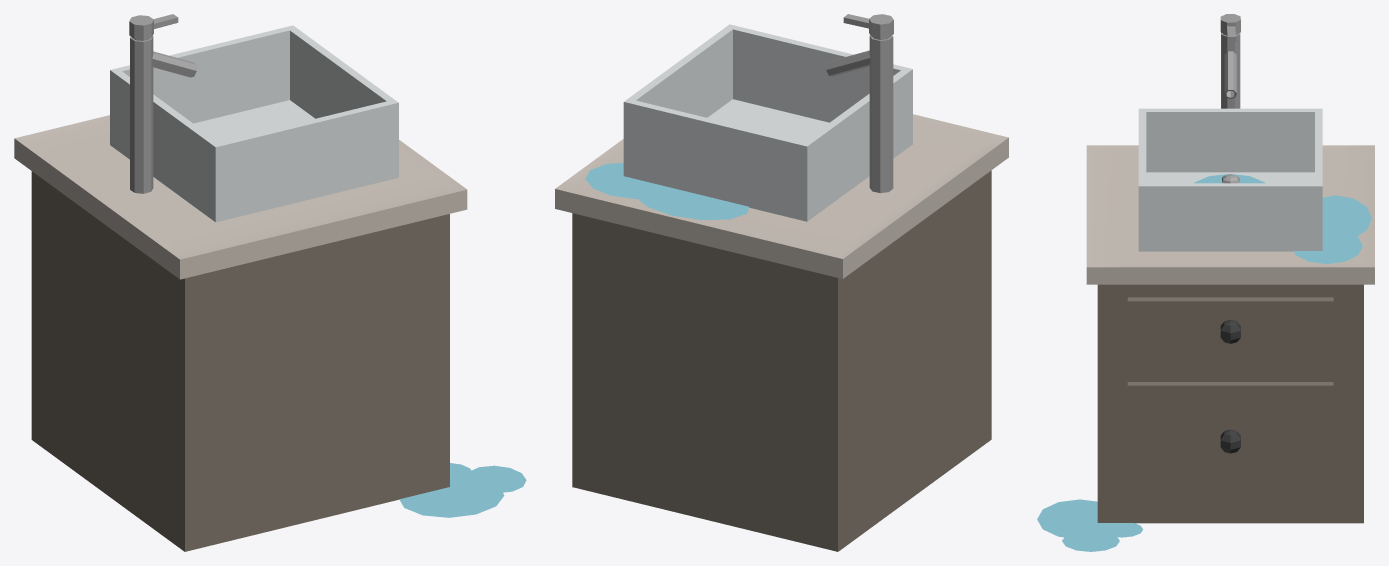
The model's file is Sink_d.fbx.
3 views of the same model, side by side, from view 1: azimuth 30°, elevation 25°; view 2: azimuth 150°, elevation 25°; view 3: azimuth 270°, elevation 25° (orthographic). The views are drawn at different scales.
Parts seen in each view (by area): view 1: pDisc7; view 2: pDisc7; view 3: pDisc7.
Part boxes in pixels (<box>): pDisc7: <box>14,14,526,551</box>; pDisc7: <box>555,14,1008,551</box>; pDisc7: <box>1037,14,1374,551</box>.
Bounding box in the file's own units: 16.87 × 21.9 × 16.49.
